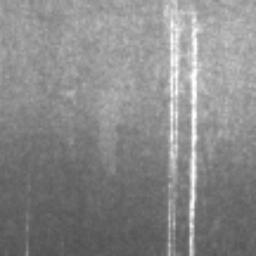Bright scratch: (167, 0, 178, 256), (189, 27, 197, 256)
